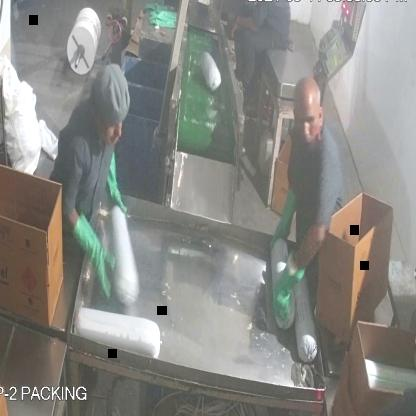glove: (74, 211, 121, 301), (269, 179, 302, 248), (269, 262, 302, 321)
no_glove: (228, 10, 268, 47)
